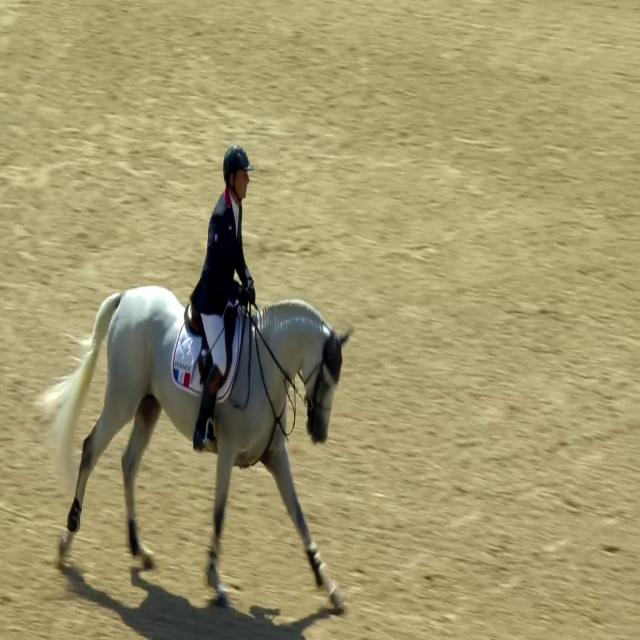Horse Rider: (187, 114, 254, 477)
Horse Running: (45, 223, 355, 634)
